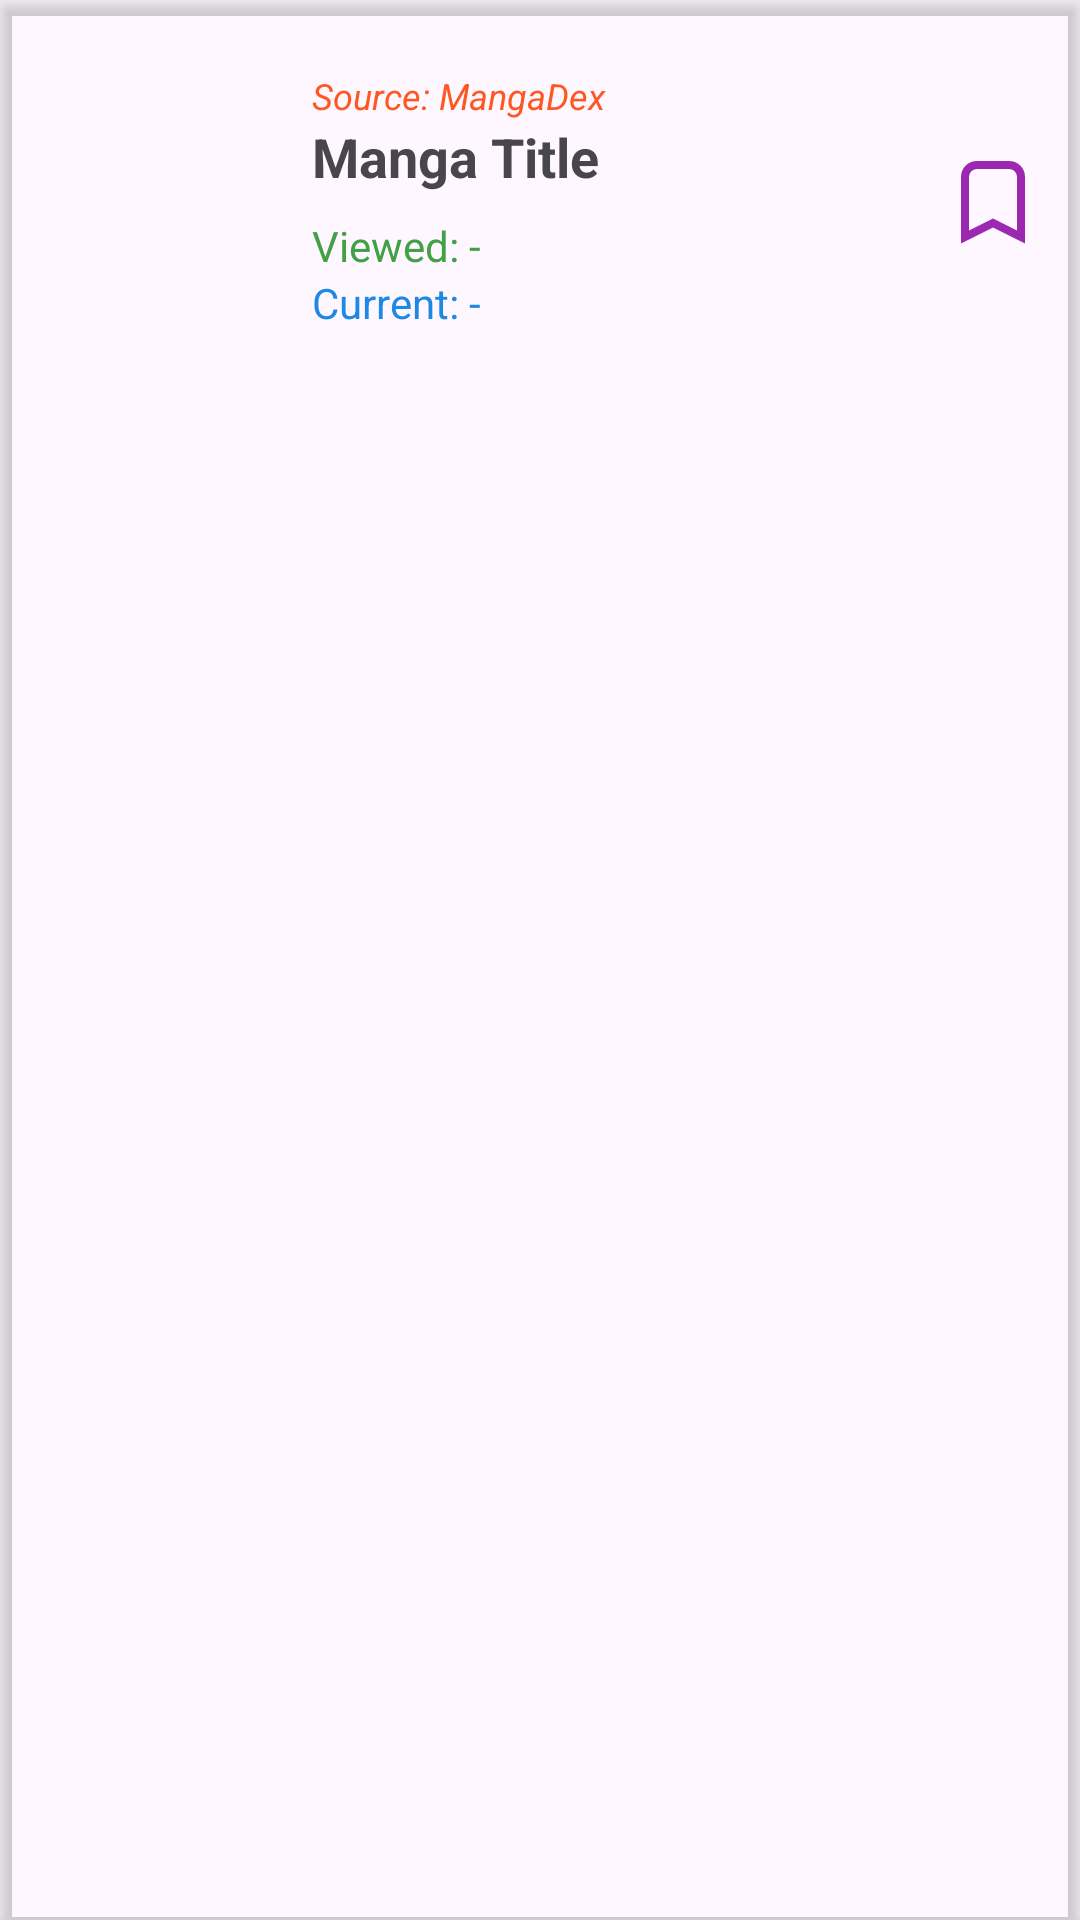

Icon click points for this 1080px x 1920px phone screenshot, format [x,y]:
Bookmark: [993,202]
